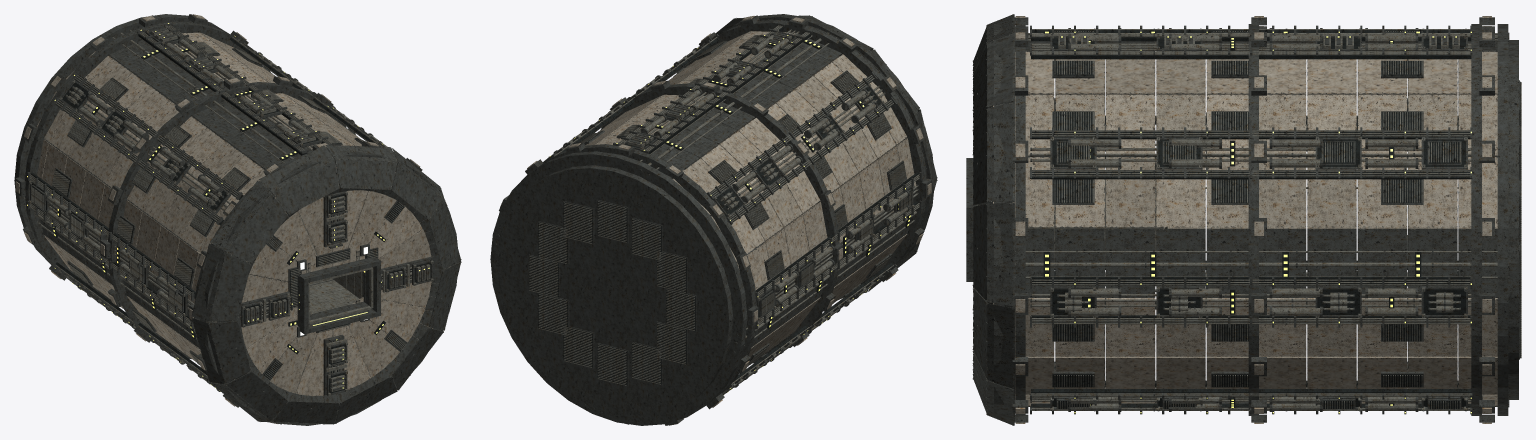
Rendered from drum.glb.
3 views of the same model, side by side, from view 1: azimuth 30°, elevation 25°; view 2: azimuth 150°, elevation 25°; view 3: azimuth 270°, elevation 25° (orthographic). The views are drawn at different scales.
Parts seen in each view (by area): view 1: static/dark-structure, static/cladding-dark-structure, static/machined-alloy, static/cladding-armour-2, static/cladding-armour-0, static/recess-black, static/cladding-armour-1, static/cladding-armour-3, static/armour-1, static/amber-lamp; view 2: static/dark-structure, static/machined-alloy, static/recess-black, static/cladding-dark-structure, static/cladding-armour-2, static/cladding-armour-0, static/cladding-armour-1, static/cladding-armour-3, static/armour-1; view 3: static/machined-alloy, static/dark-structure, static/cladding-dark-structure, static/recess-black, static/cladding-armour-0, static/cladding-armour-2, static/cladding-armour-3, static/cladding-armour-1, static/armour-1, static/amber-lamp.
Boxes of the visible parts, x1,y1,x2,y2 form: static/dark-structure: (14,14,461,425); static/cladding-dark-structure: (40,40,461,424); static/machined-alloy: (23,25,461,424); static/cladding-armour-2: (36,36,432,401); static/cladding-armour-0: (49,36,431,412); static/recess-black: (30,26,430,393); static/cladding-armour-1: (68,32,450,378); static/cladding-armour-3: (37,50,436,410); static/armour-1: (15,14,447,423); static/amber-lamp: (27,23,429,391); static/dark-structure: (490,14,937,425); static/machined-alloy: (529,25,920,394); static/recess-black: (529,27,918,385); static/cladding-dark-structure: (651,15,937,346); static/cladding-armour-2: (585,53,895,343); static/cladding-armour-0: (586,39,904,357); static/cladding-armour-1: (608,31,916,354); static/cladding-armour-3: (599,31,907,290); static/armour-1: (500,16,931,425); static/machined-alloy: (972,14,1521,425); static/dark-structure: (966,14,1519,425); static/cladding-dark-structure: (973,14,1497,425); static/recess-black: (1031,30,1520,408); static/cladding-armour-0: (993,40,1497,403); static/cladding-armour-2: (993,59,1497,405); static/cladding-armour-3: (993,51,1497,388); static/cladding-armour-1: (993,51,1497,403); static/armour-1: (1015,16,1491,423); static/amber-lamp: (1045,31,1471,413).
Size of the model in its own units: 779 by 779 by 1047.
9 materials, 7 textured.
